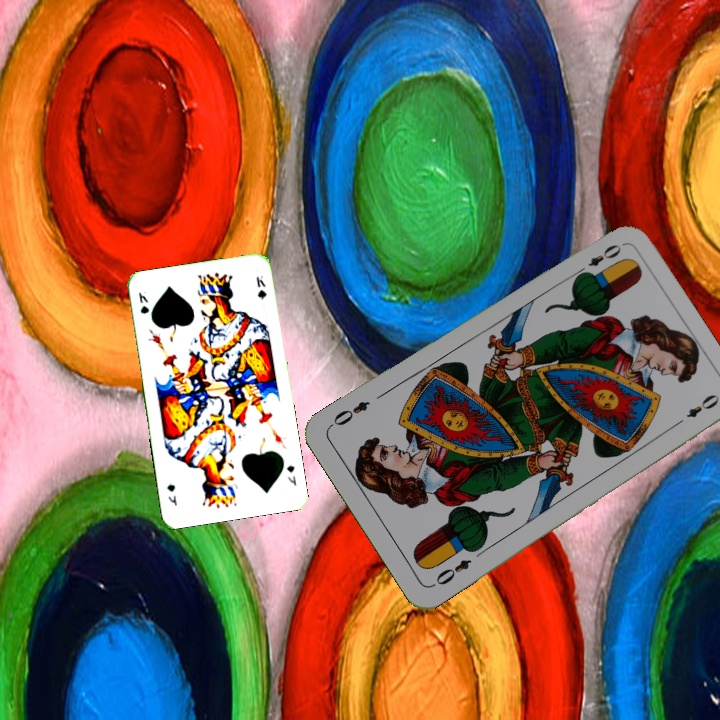EO: (571, 240, 624, 279), (427, 555, 474, 590)
GK: (134, 289, 152, 316), (282, 461, 299, 489)
